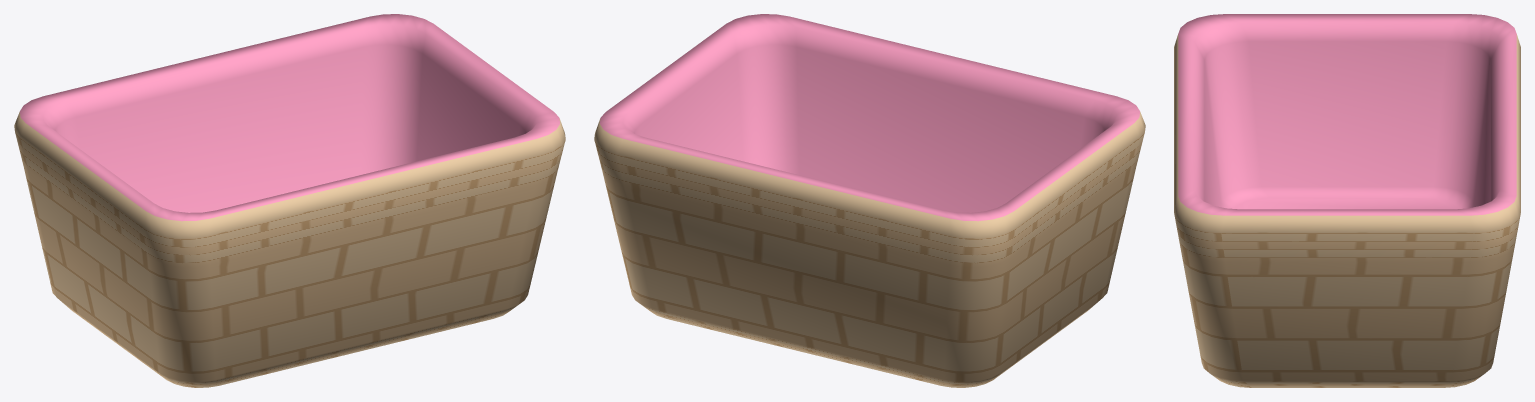
Rendered from acc_basket.glb.
3 views of the same model, side by side, from view 1: azimuth 30°, elevation 25°; view 2: azimuth 150°, elevation 25°; view 3: azimuth 270°, elevation 25° (orthographic).
Parts seen in each view (by area): view 1: OpenLinedBasket; view 2: OpenLinedBasket; view 3: OpenLinedBasket.
Part boxes in pixels (left/top/right/bottom): OpenLinedBasket: left=14, top=14, right=565, bottom=387; OpenLinedBasket: left=594, top=14, right=1145, bottom=387; OpenLinedBasket: left=1174, top=14, right=1520, bottom=387.
Size of the model in its own units: 0.35 by 0.15 by 0.25.
1 material, 1 textured.
